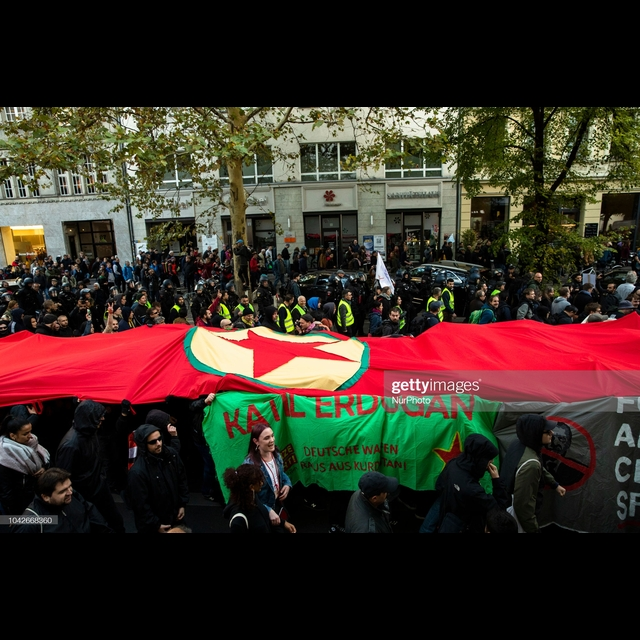PKK: (178, 324, 376, 392)
